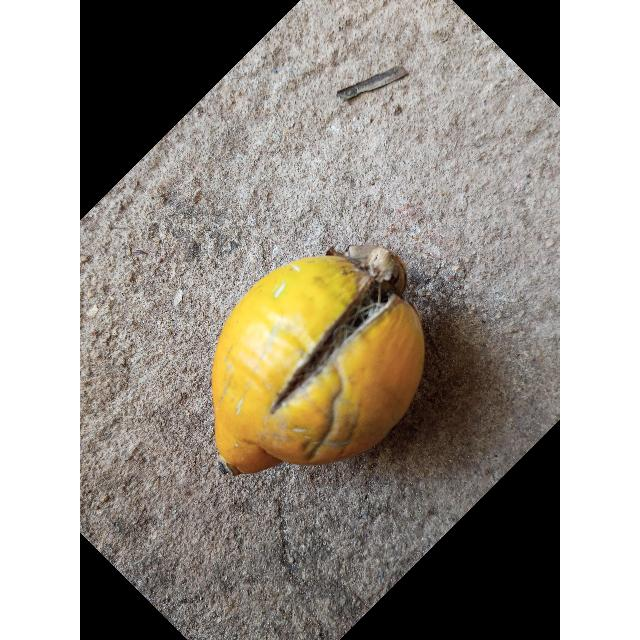damaged: (211, 249, 426, 477)
